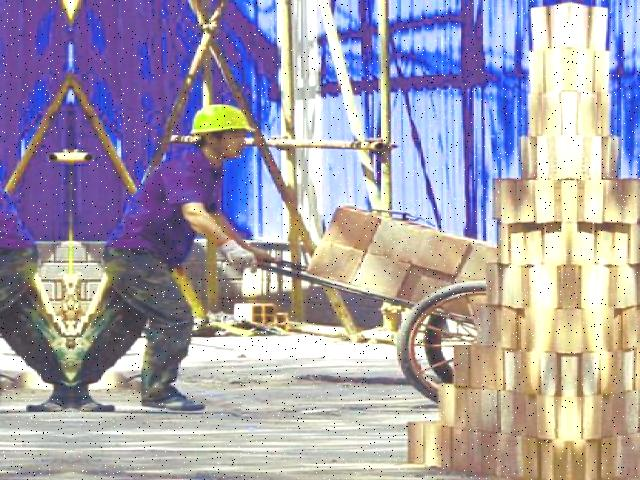Helmet: (186, 99, 256, 143)
